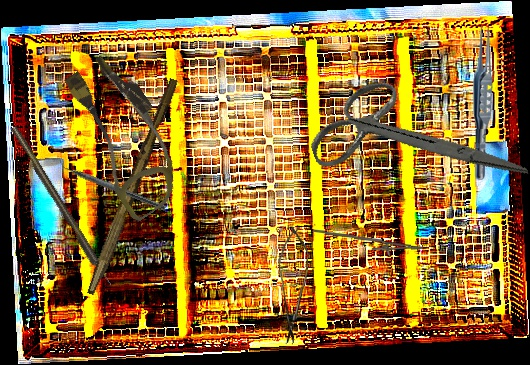Cannula: (47, 47, 202, 224)
Chopper: (52, 154, 170, 212)
Hook Surgical: (10, 124, 113, 289)
Iris Scissors: (297, 43, 530, 240)
Micro Scissor: (276, 225, 310, 346)
Needle Holder: (312, 229, 424, 258)
Scalpel Handle: (86, 76, 180, 298)
Tissue Forceps: (470, 20, 495, 181)
